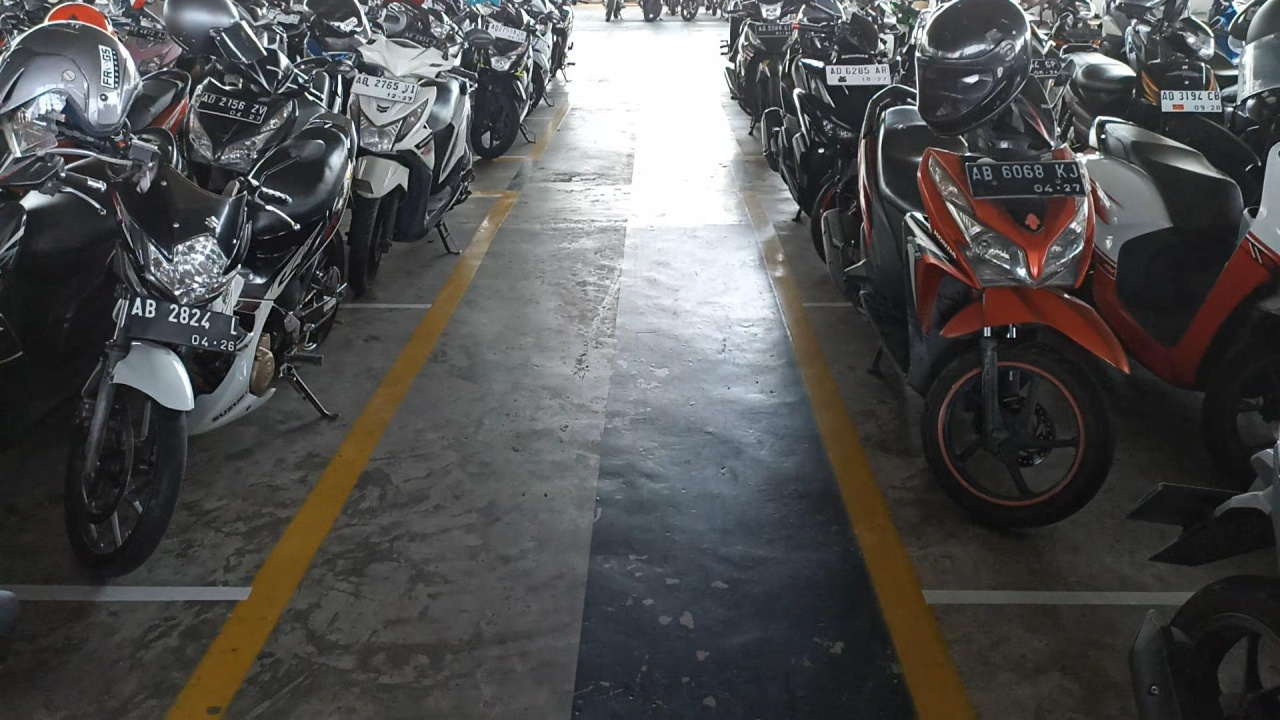plate: (127, 294, 239, 354), (966, 160, 1087, 200), (350, 73, 419, 104), (826, 64, 891, 85), (1161, 90, 1222, 112)
